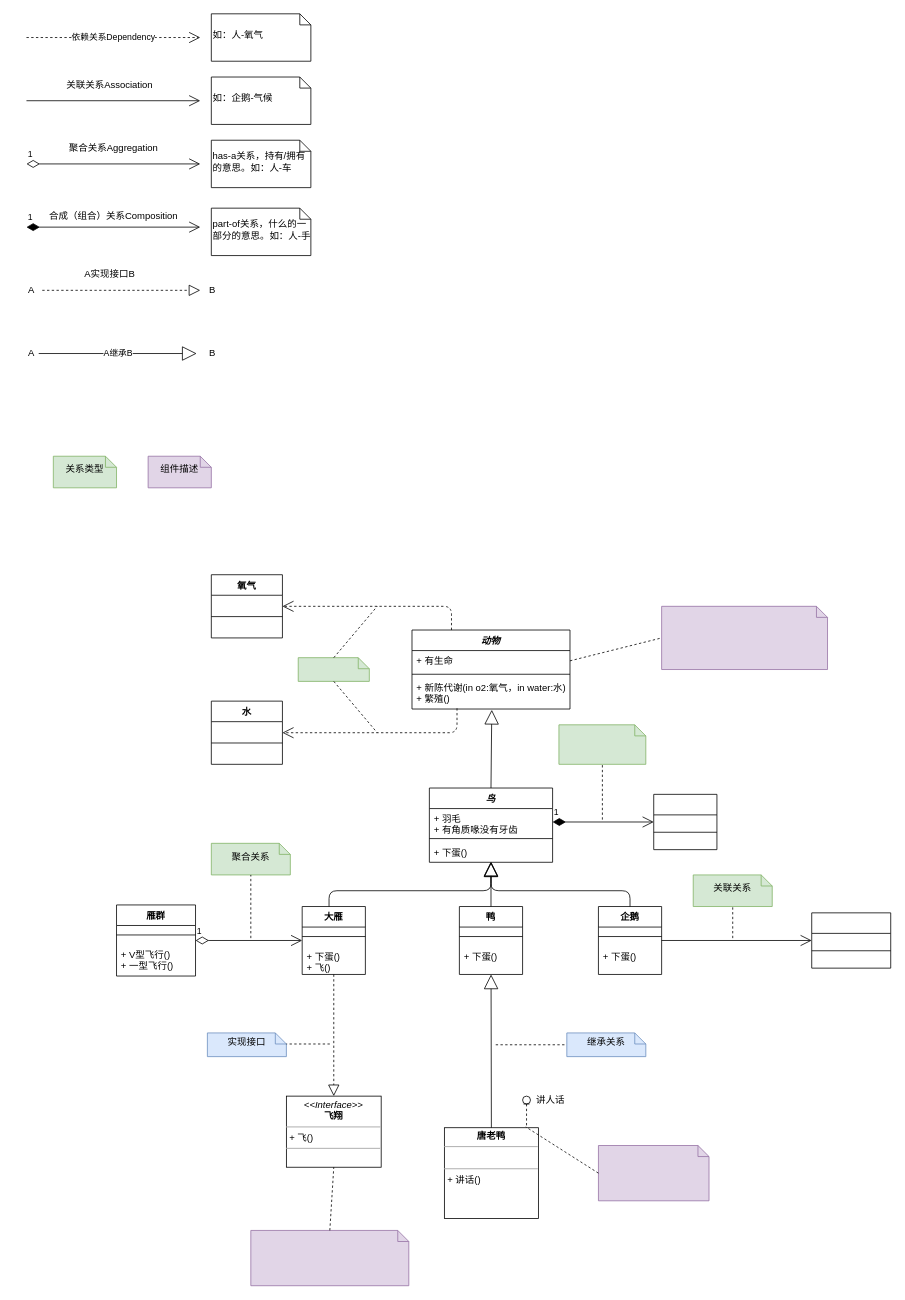
Some shapes in this 905 by 1300 pixel diagram are drawn without their labels. Here are the shapes that lost their labels. From the top down, the centre of each, then its label:
At [744,638]: "类 第一行：类名称（若类名称为斜体字，则此类为抽象类） 第二行：特性（字段或属性） 第三行：操作（方法或行为）".
At [333,669]: "依赖关系".
At [602,744]: "合成（组合）关系".
At [685,822]: "翅膀".
At [851,940]: "气候".
At [653,1173]: "接口 棒棒糖表示法 圆圈旁为接口名称 接口方法在实现类中出现".
At [329,1258]: "接口 矩形表示法，顶端有<<interface>> 第一行：接口名称 第二行：接口方法".
